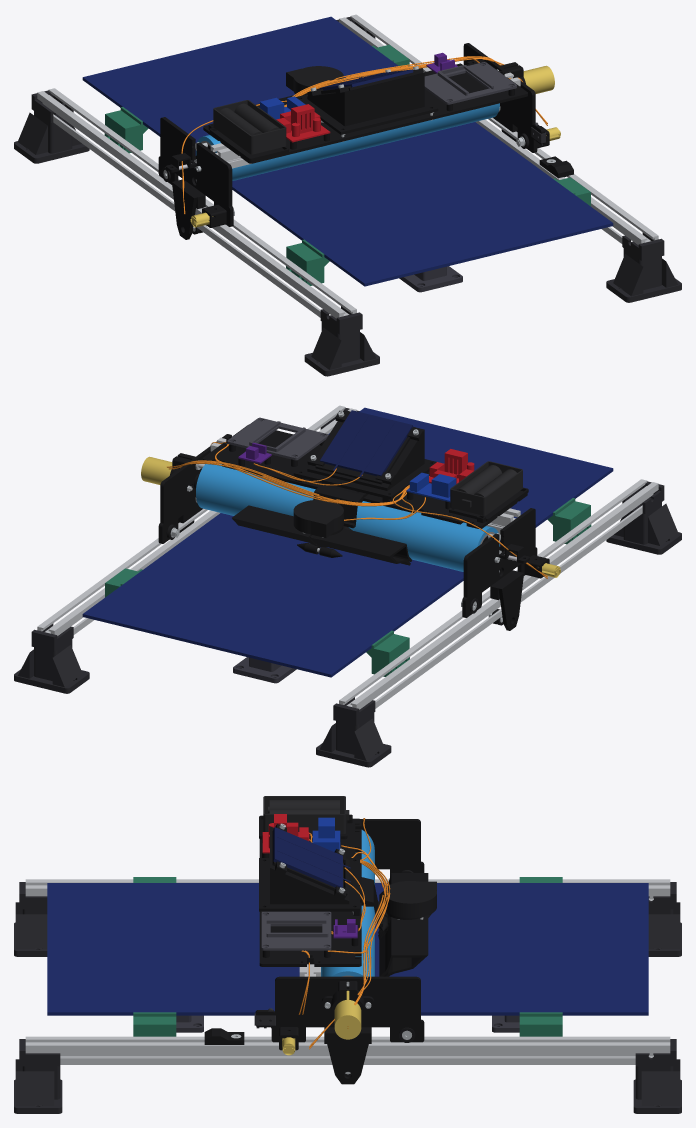
Rendered from arc_full.glb.
3 views of the same model, one above another, from view 1: azimuth 30°, elevation 25°; view 2: azimuth 150°, elevation 25°; view 3: azimuth 270°, elevation 25° (orthographic). The views are drawn at different scales.
Parts seen in each view (by area): view 1: cots_solar_panel, cots_guide_rail_left, endplate_left, solar_wedge, chassis_tray, roller_sleeve, cots_guide_rail_right, testbed_rail_riser_lr, testbed_rail_riser_rr, cots_battery_2x18650, testbed_rail_riser_lf, esp32_adapter_sled (+10 smaller); view 2: cots_solar_panel, roller_sleeve, cots_guide_rail_left, endplate_left, chassis_tray, cots_pv_mini_panel, solar_wedge, cots_guide_rail_right, testbed_rail_riser_lf, testbed_rail_riser_rf, cots_battery_2x18650, testbed_rail_riser_lr (+12 smaller); view 3: cots_solar_panel, cots_guide_rail_right, endplate_right, solar_wedge, chassis_tray, testbed_rail_riser_rr, testbed_rail_riser_rf, endplate_left, cowl_right, esp32_adapter_sled, cots_pv_mini_panel, cots_battery_2x18650 (+15 smaller).
Boxes of the visible parts, x1,y1,x2,y2 form: cots_solar_panel: (82,16,613,286); cots_guide_rail_left: (37,88,356,318); endplate_left: (158,117,233,239); solar_wedge: (296,71,438,134); chassis_tray: (203,59,527,163); roller_sleeve: (196,103,499,180); cots_guide_rail_right: (339,14,658,244); testbed_rail_riser_lr: (304,306,379,376); testbed_rail_riser_rr: (606,232,681,302); cots_battery_2x18650: (213,100,286,154); testbed_rail_riser_lf: (14,90,89,163); esp32_adapter_sled: (424,62,516,104); cots_solar_panel: (82,407,613,677); roller_sleeve: (196,464,499,571); cots_guide_rail_left: (339,479,658,709); endplate_left: (462,508,549,630); chassis_tray: (203,424,528,528); cots_pv_mini_panel: (320,410,413,477); solar_wedge: (293,410,436,499); cots_guide_rail_right: (37,405,356,635); testbed_rail_riser_lf: (316,697,391,767); testbed_rail_riser_rf: (14,623,89,693); cots_battery_2x18650: (450,461,522,515); testbed_rail_riser_lr: (606,481,681,554); cots_solar_panel: (47,883,648,1015); cots_guide_rail_right: (25,1036,670,1064); endplate_right: (255,976,424,1084); solar_wedge: (259,826,359,911); chassis_tray: (259,814,361,966); testbed_rail_riser_rr: (14,1039,62,1113); testbed_rail_riser_rf: (633,1039,681,1113); endplate_left: (361,819,424,876); cowl_right: (378,912,431,976); esp32_adapter_sled: (261,911,331,950); cots_pv_mini_panel: (273,827,350,887); cots_battery_2x18650: (263,796,349,833).
Bounding box in the file's own units: 0.4402 × 0.183 × 0.622.
